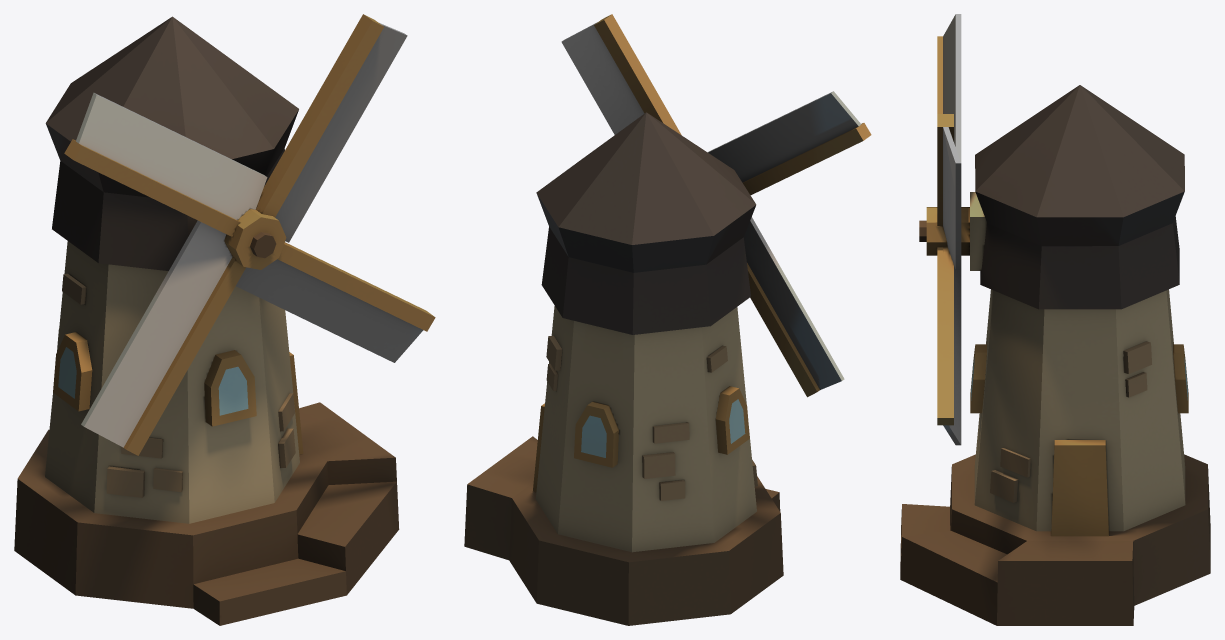
The model's file is mill.gltf.
3 views of the same model, side by side, from view 1: azimuth 30°, elevation 25°; view 2: azimuth 150°, elevation 25°; view 3: azimuth 270°, elevation 25° (orthographic). The views are drawn at different scales.
Visible parts, largest first — view 1: Mesh_10; view 2: Mesh_10; view 3: Mesh_10.
Part boxes in pixels (x1=…): Mesh_10: x1=14, y1=14, x2=435, y2=625; Mesh_10: x1=464, y1=14, x2=871, y2=625; Mesh_10: x1=900, y1=14, x2=1210, y2=625.
Size of the model in its own units: 3.25 by 4.72 by 2.72.
1 material, 1 textured.
